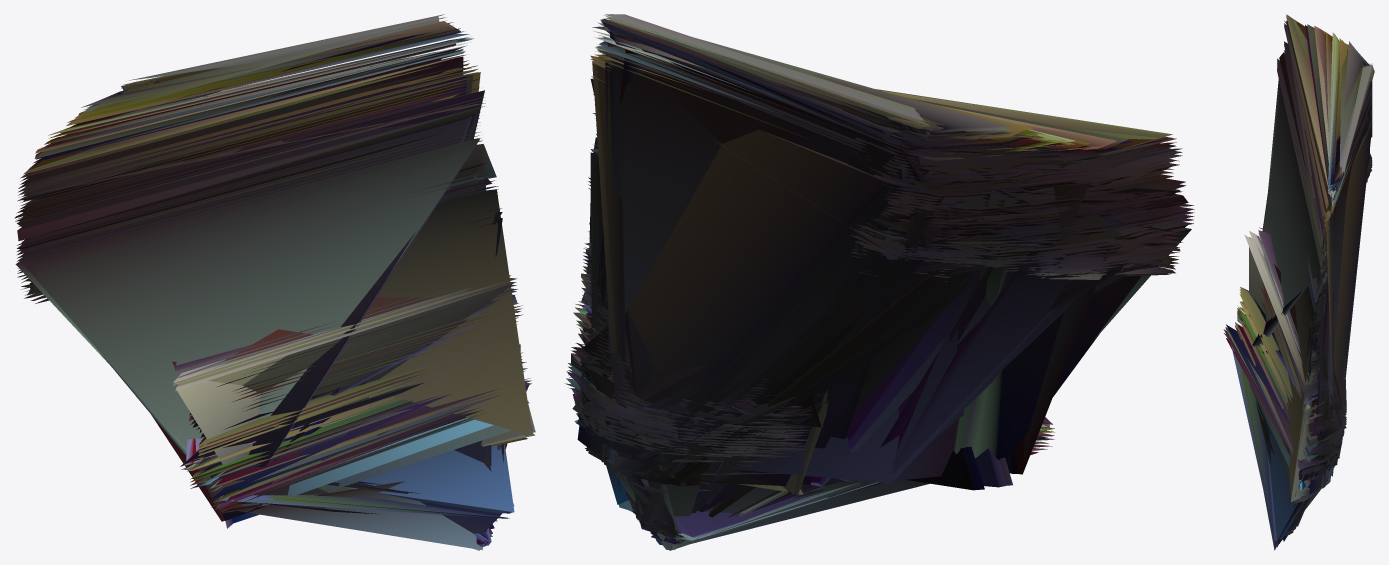
3 views of the same model, side by side, from view 1: azimuth 30°, elevation 25°; view 2: azimuth 150°, elevation 25°; view 3: azimuth 270°, elevation 25° (orthographic). The views are drawn at different scales.
Size of the model in its own units: 0.202 by 0.1823 by 0.065.
